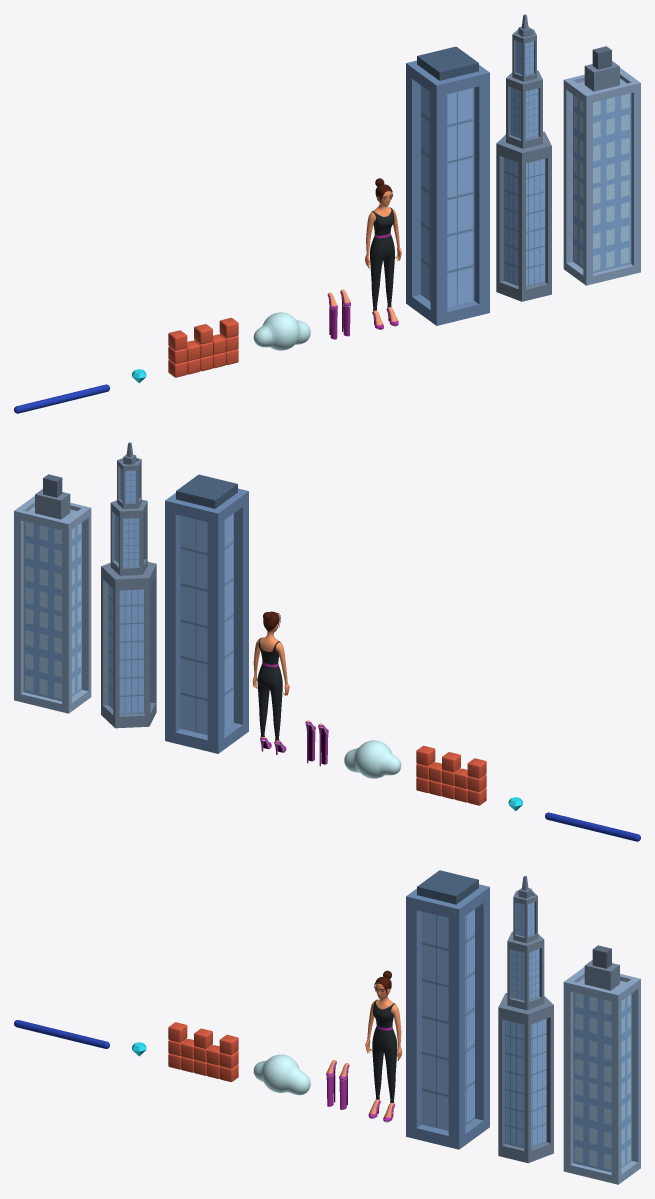
The model's file is high heels sketchfab.fbx.
3 renders of one model, top to bottom at view 1: azimuth 30°, elevation 25°; view 2: azimuth 150°, elevation 25°; view 3: azimuth 330°, elevation 25°, orthographic.
Parts seen in each view (by area): view 1: building, building3, building2, wall, woman, cloud, balk; view 2: building, building3, building2, wall, woman, cloud, balk; view 3: building, building3, building2, wall, woman, cloud, balk.
Part boxes in pixels (box(x1,y1,x2,y2)): building: box(406, 46, 489, 325); building3: box(563, 46, 640, 285); building2: box(496, 14, 551, 301); wall: box(168, 317, 238, 377); woman: box(365, 178, 401, 310); cloud: box(253, 312, 310, 350); balk: box(14, 384, 109, 413); building: box(165, 474, 248, 753); building3: box(14, 474, 91, 713); building2: box(101, 442, 156, 728); wall: box(416, 745, 486, 805); woman: box(252, 611, 289, 740); cloud: box(344, 740, 401, 778); balk: box(545, 812, 640, 841); building: box(406, 870, 489, 1149); building3: box(563, 945, 640, 1184); building2: box(498, 876, 553, 1163); wall: box(168, 1022, 238, 1081); woman: box(365, 970, 402, 1103); cloud: box(253, 1054, 310, 1095); balk: box(14, 1020, 109, 1048).
Size of the model in its own units: 4783 by 2040 by 414.
